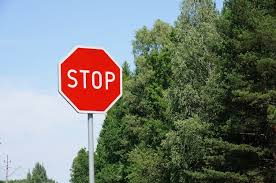stop sign: (57, 47, 122, 113)
